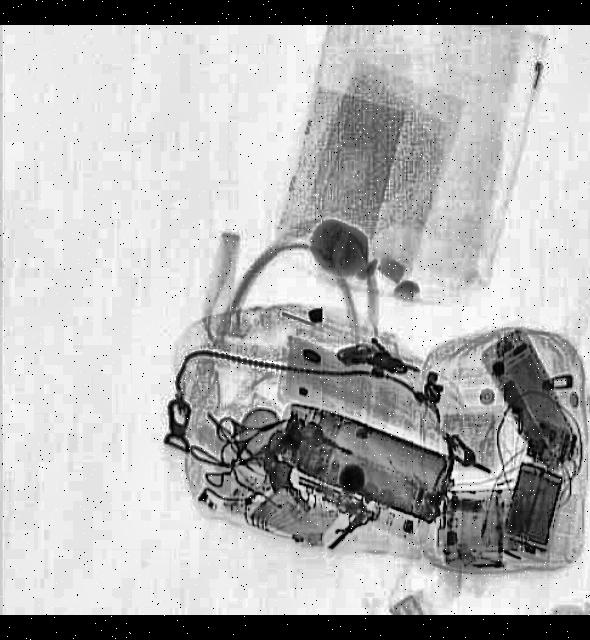Scissors: (206, 392, 300, 466)
